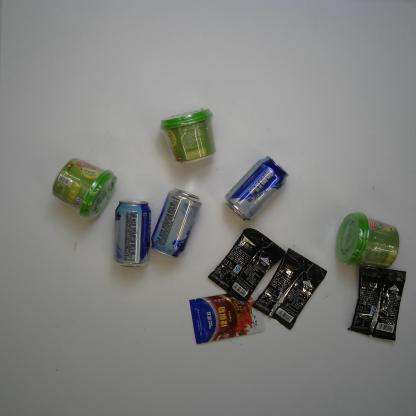Alcohol: (224, 155, 289, 222), (151, 185, 204, 262), (112, 199, 154, 270)
Instant Drink: (251, 244, 330, 334), (206, 228, 286, 307), (347, 263, 407, 343), (50, 156, 120, 222), (332, 209, 402, 270), (159, 106, 218, 166)
Seasoner: (188, 290, 268, 348)
